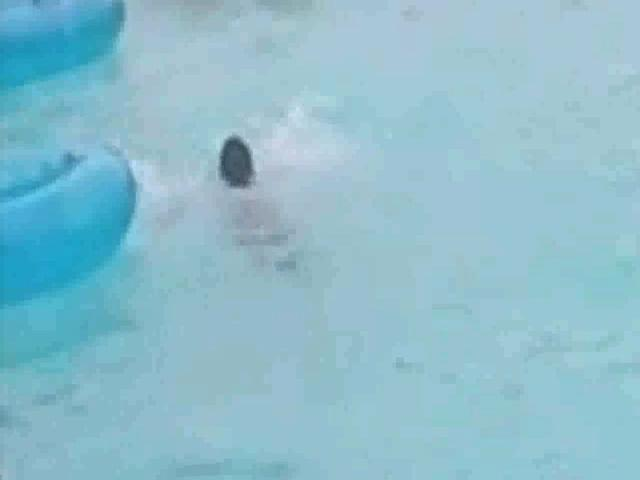swimming: (167, 102, 340, 261)
